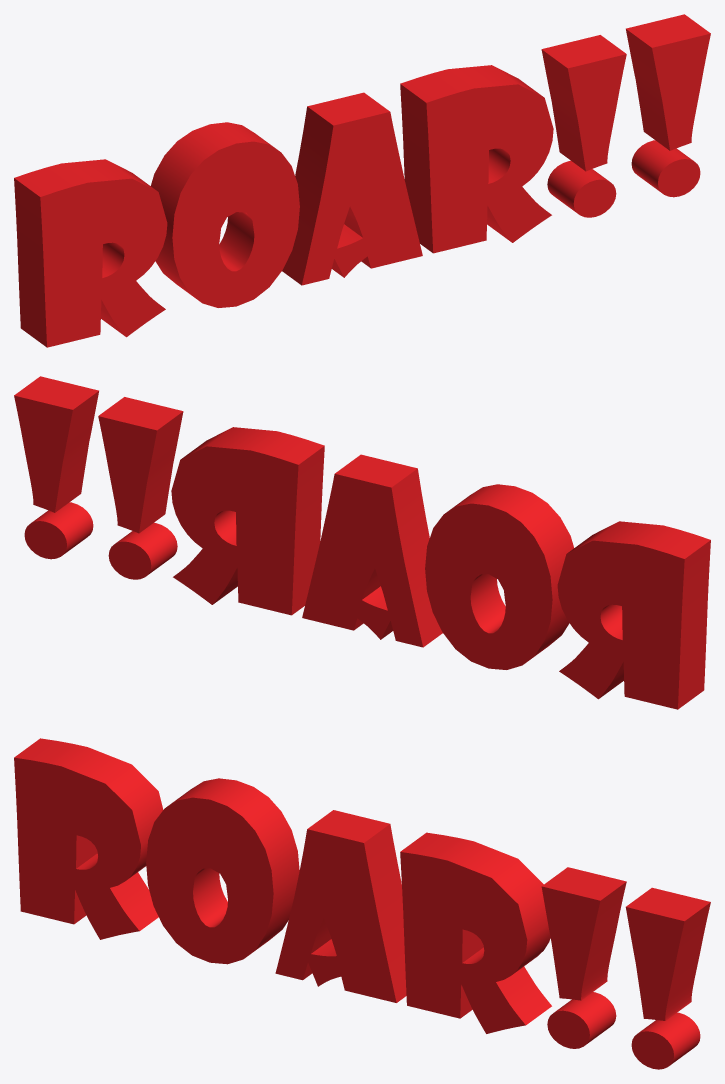
Rendered from ROARunity.fbx.
3 renders of one model, top to bottom at view 1: azimuth 30°, elevation 25°; view 2: azimuth 150°, elevation 25°; view 3: azimuth 330°, elevation 25°, orthographic.
Visible parts, largest first — view 1: node_id6; view 2: node_id6; view 3: node_id6.
Boxes of the visible parts, x1,y1,x2,y2 form: node_id6: (14,14,710,347); node_id6: (14,376,710,709); node_id6: (14,738,710,1069).
Size of the model in its own units: 0.512 by 0.1219 by 0.0348.
Materials: 1 (1 with a texture image).
